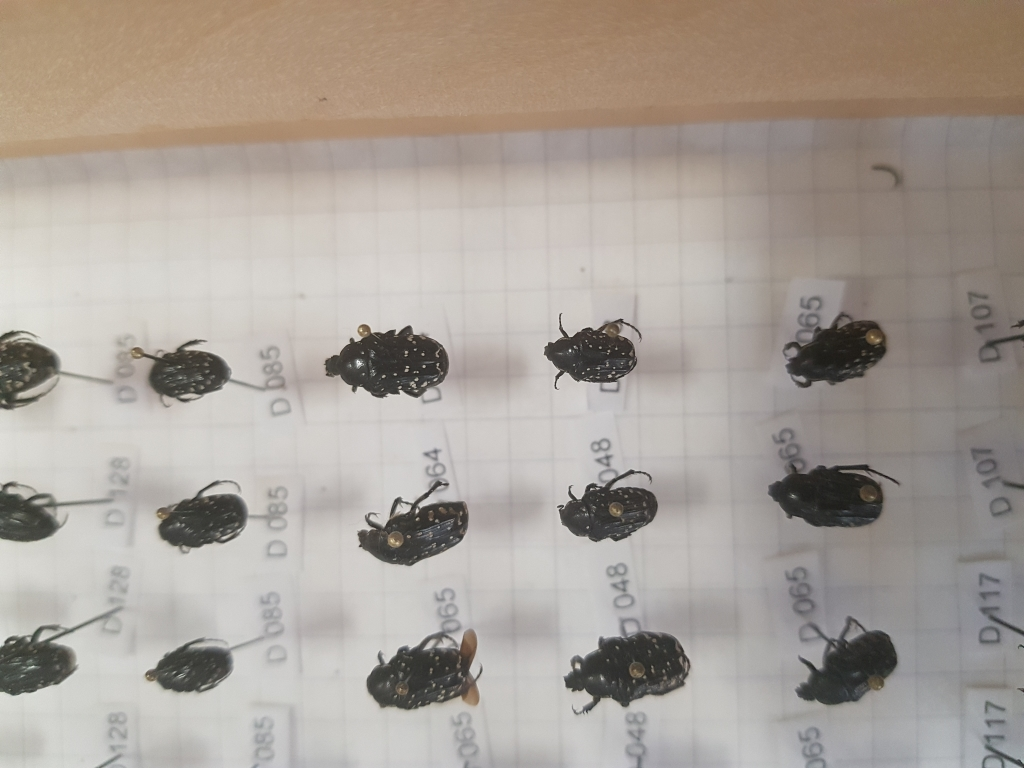Oxythyrea_cinctella: (323, 321, 454, 401), (547, 461, 660, 541)
